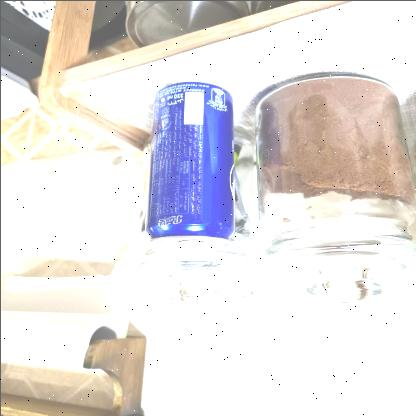Can: (139, 75, 251, 257)
